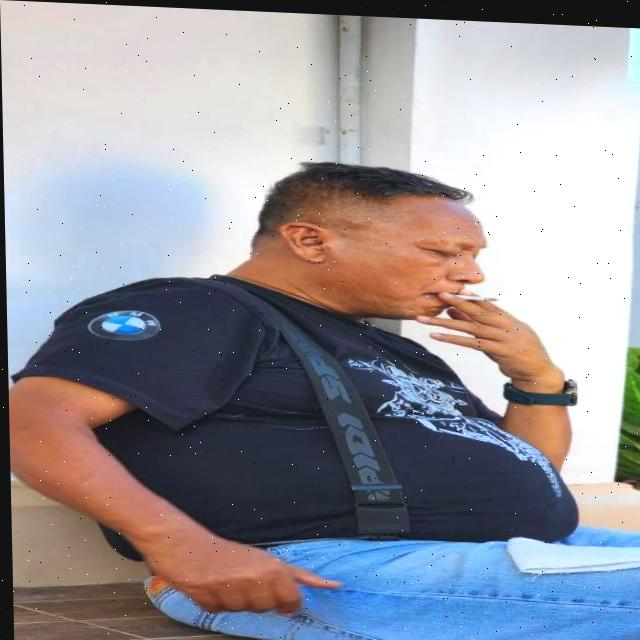cigarette: (440, 288, 495, 299)
